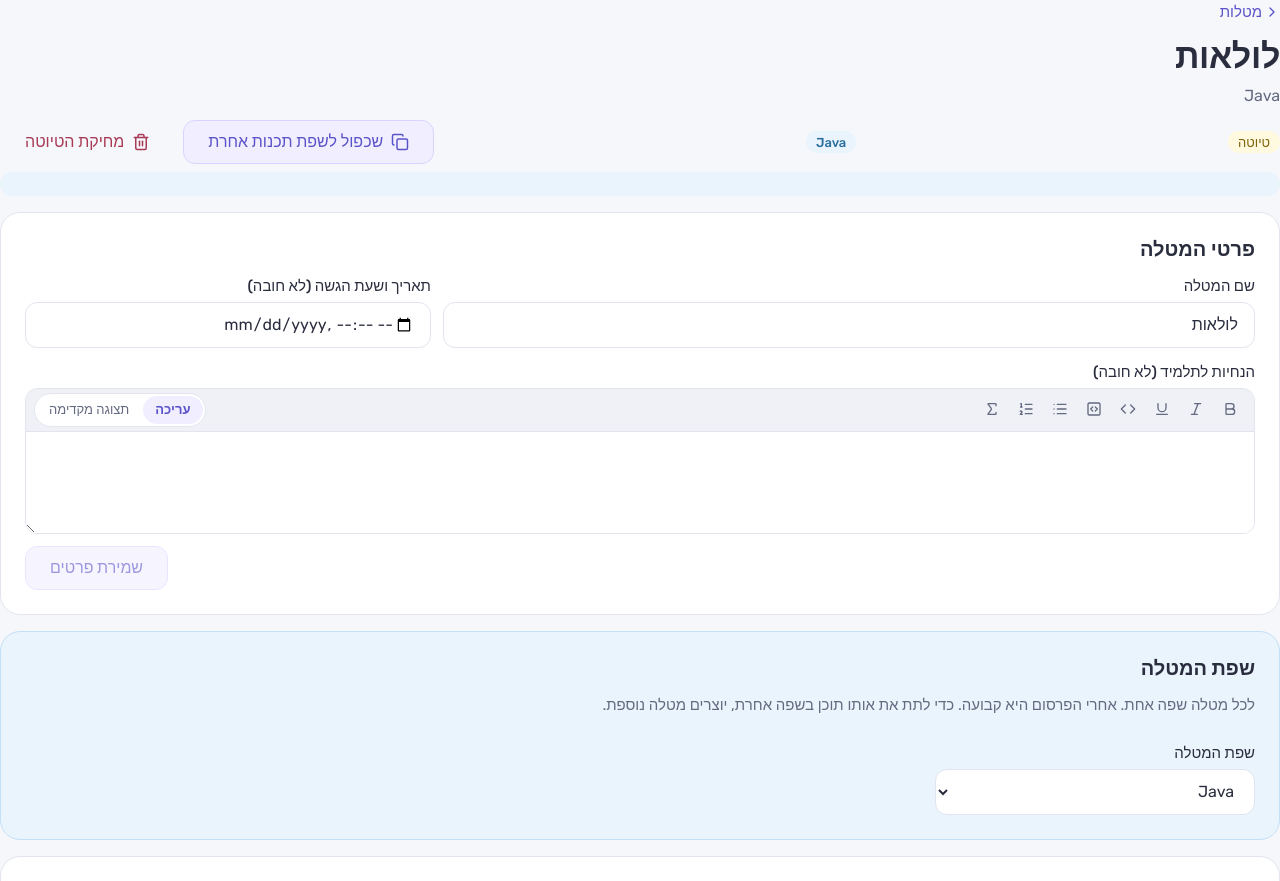
Test: C3 — clone to another programming language › a missing variant blocks the clone: lists the questions with links, the confirm button is disabled, nothing is created
Click the button "שכפול לשפת תכנות אחרת".
click(309, 142)  # box [183,120,434,164]
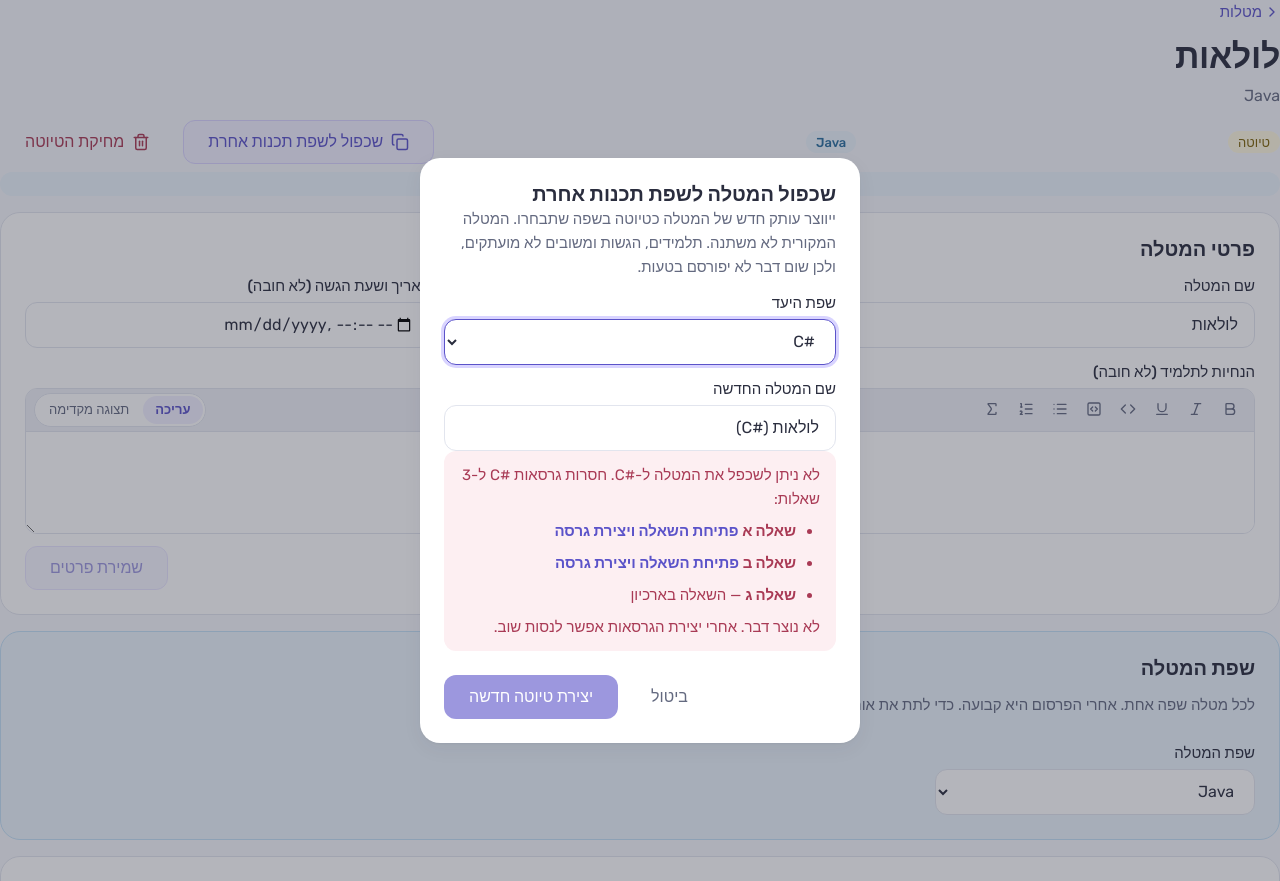
Now the text "לא ניתן לשכפל את המטלה ל- C# . חסרות גרסאות C# ל-3 שאלות:" is shown, box [462,466,820,508]
Now the text "שאלה א" is shown, box [742,522,796,540]
Now the number of links "פתיחת השאלה ויצירת גרסה" is 2, box [554,522,738,540]; [555,554,739,572]
